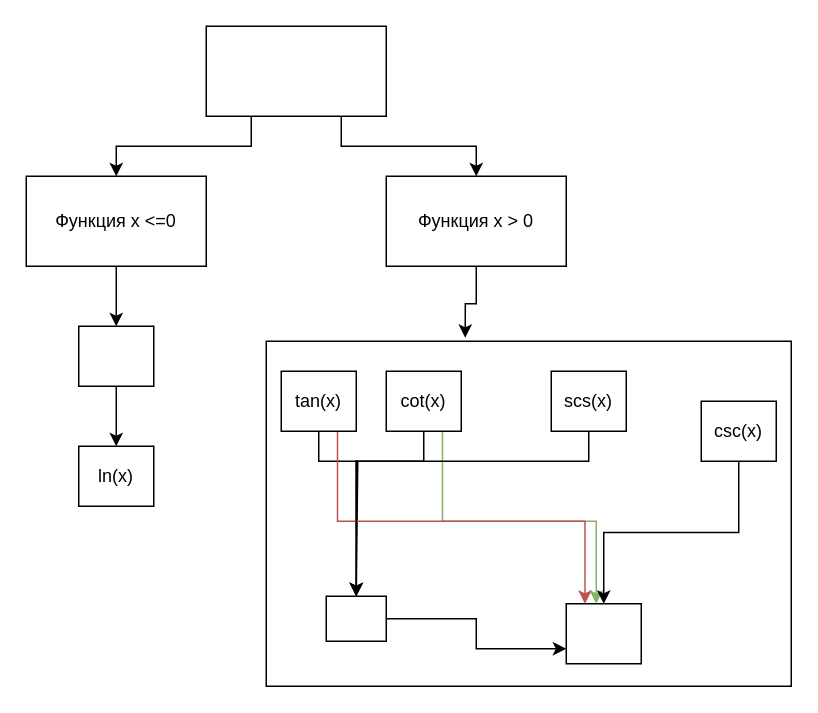
Some shapes in this 818 by 713 pixel diagram are drawn without their labels. Here are the shapes that lost their labels. From the top down, the centre of each, then its label:
At point (295, 70): "Система функций".
At point (115, 355): "logN".
At point (355, 618): "cos(x)".
At point (603, 633): "sin(x)".
